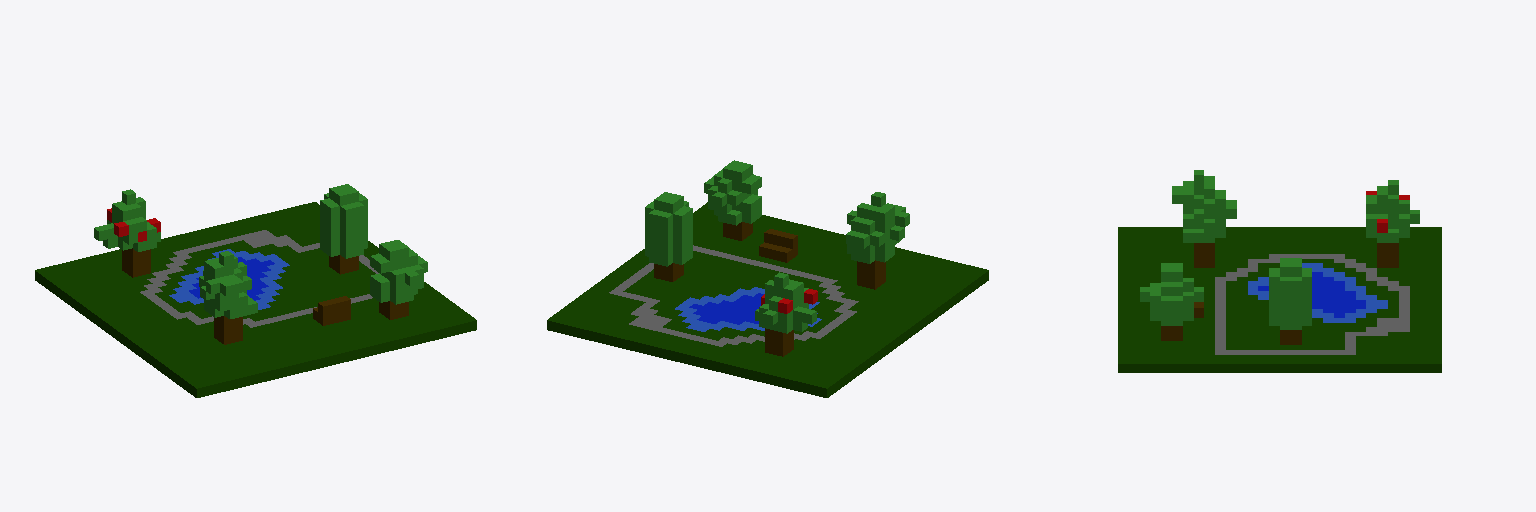
3 renders of one model, left to right at view 1: azimuth 30°, elevation 25°; view 2: azimuth 150°, elevation 25°; view 3: azimuth 270°, elevation 25°, orthographic.
Size of the model in its own units: 30 by 10 by 30.
Materials: 1 (1 with a texture image).